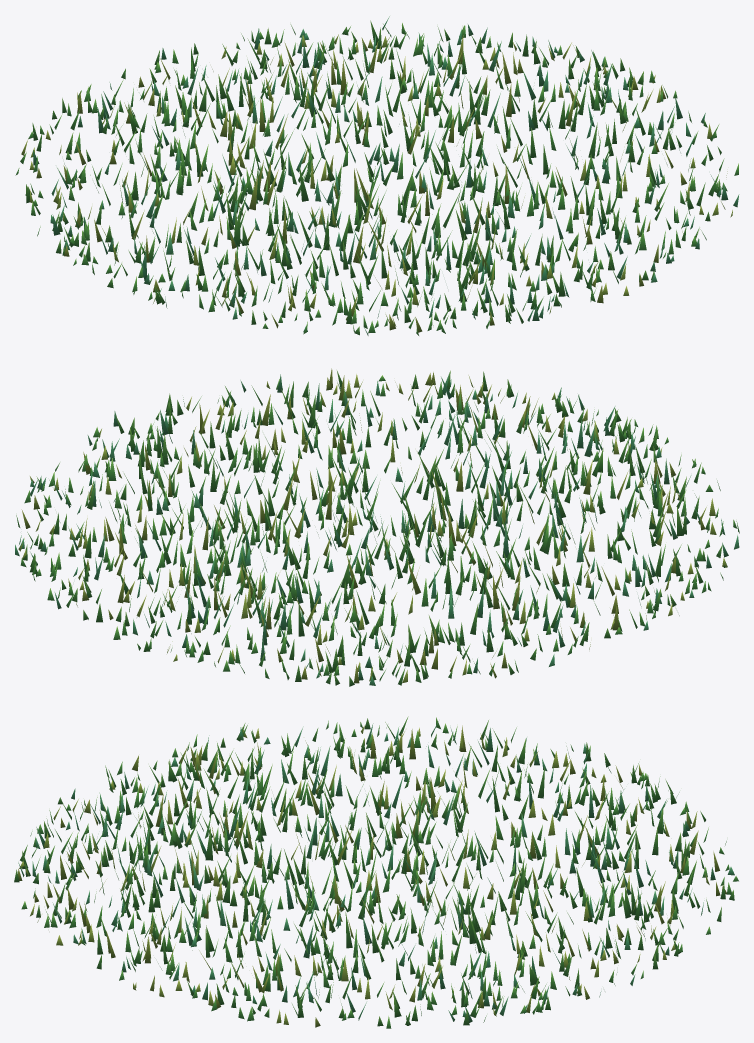
The picture shows the model from 3 angles, top to bottom: view 1: azimuth 30°, elevation 25°; view 2: azimuth 150°, elevation 25°; view 3: azimuth 270°, elevation 25°; orthographic projection.
Parts seen in each view (by area): view 1: gr3_a; view 2: gr3_a; view 3: gr3_a.
Part boxes in pixels (box(x1,y1,x2,y2)): gr3_a: box(15, 16, 739, 335); gr3_a: box(15, 368, 739, 686); gr3_a: box(14, 716, 738, 1028).
Size of the model in its own units: 7.79 by 0.3977 by 7.85.
1 material, 1 textured.
